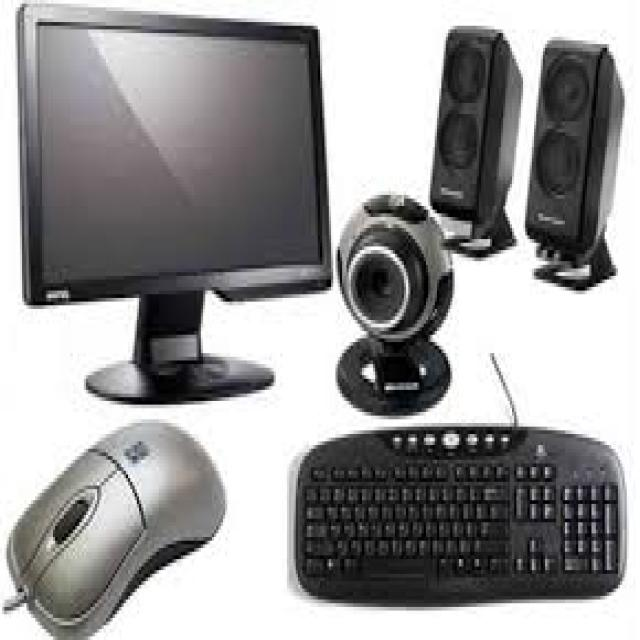komputer: (20, 3, 328, 405)
